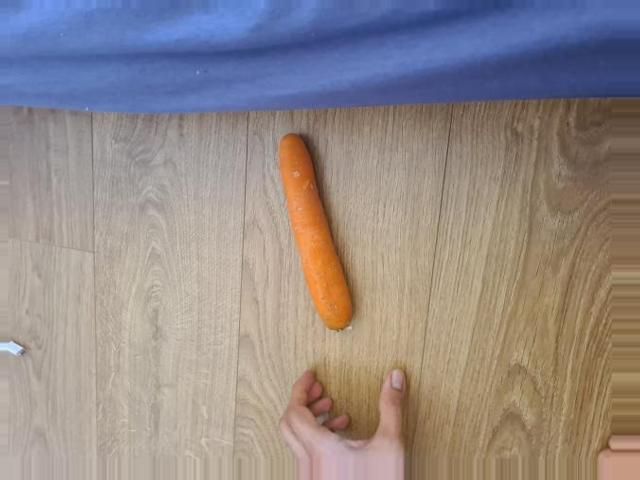carrot: (281, 131, 352, 329)
